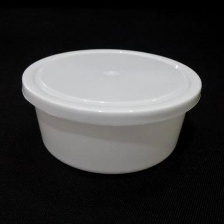plastic_box: (15, 40, 207, 182)
